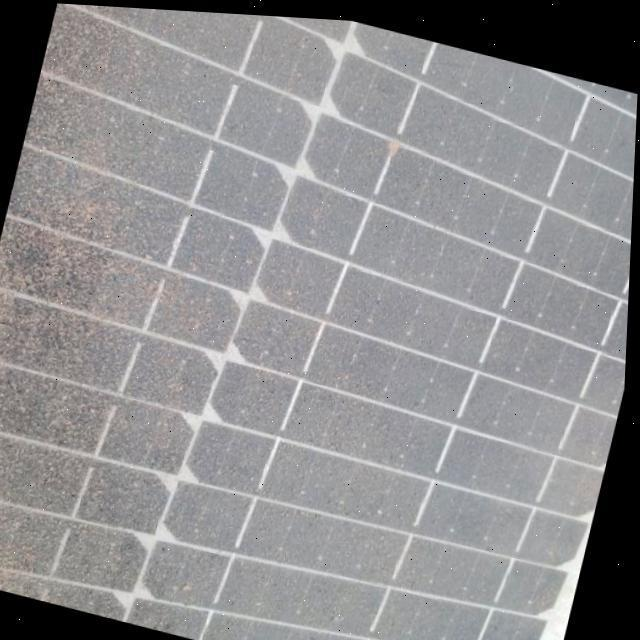Anomaly Solar Panel: (0, 0, 640, 640)
Surface Contaminant: (0, 3, 638, 640)
